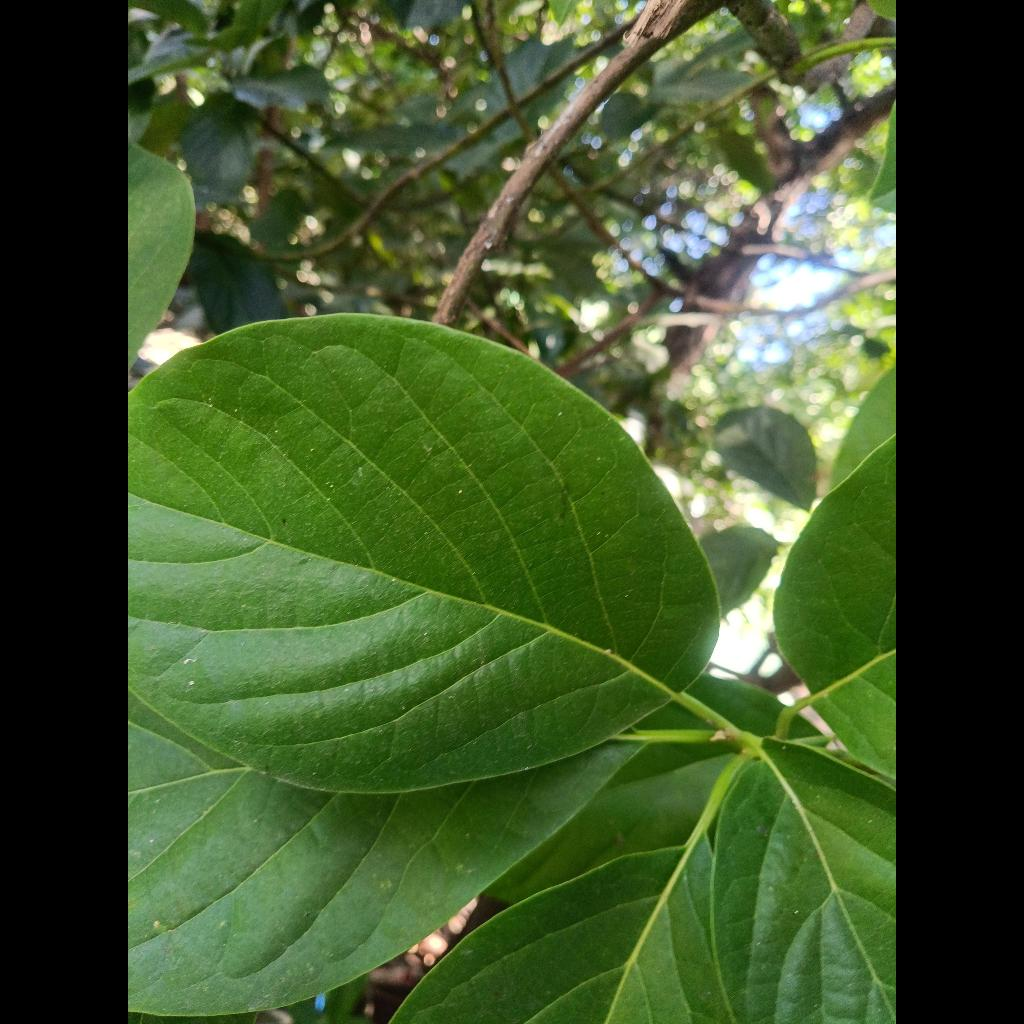Healthy: (128, 314, 718, 794)
